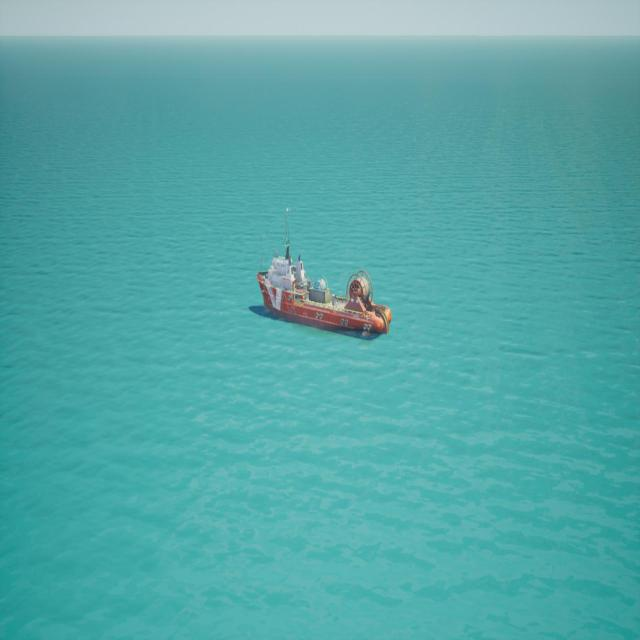tug boat: (252, 207, 392, 346)
